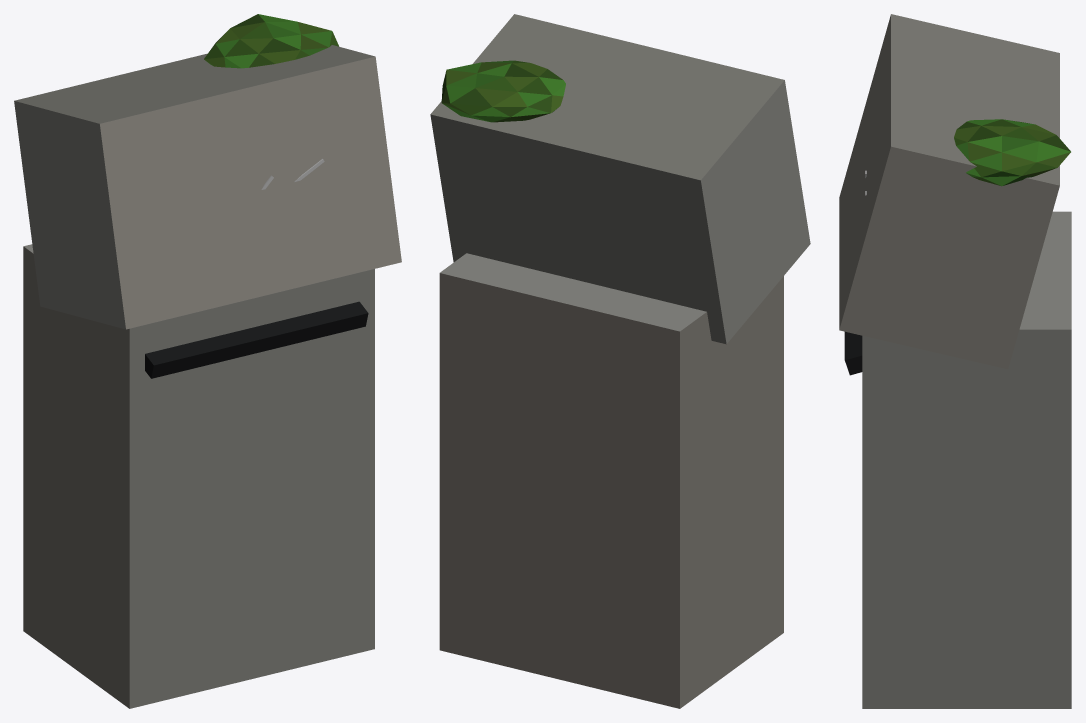
Rendered from flicker_terminal.glb.
The picture shows the model from 3 angles, left to right: view 1: azimuth 30°, elevation 25°; view 2: azimuth 150°, elevation 25°; view 3: azimuth 270°, elevation 25°; orthographic projection. The views are drawn at different scales.
Visible parts, largest first — view 1: Mesh; view 2: Mesh; view 3: Mesh.
Part boxes in pixels (x1=…): Mesh: x1=14, y1=14, x2=401, y2=708; Mesh: x1=430, y1=14, x2=810, y2=708; Mesh: x1=839, y1=14, x2=1071, y2=708.
Bounding box in the file's own units: 0.9424 × 1.8 × 0.6664.
